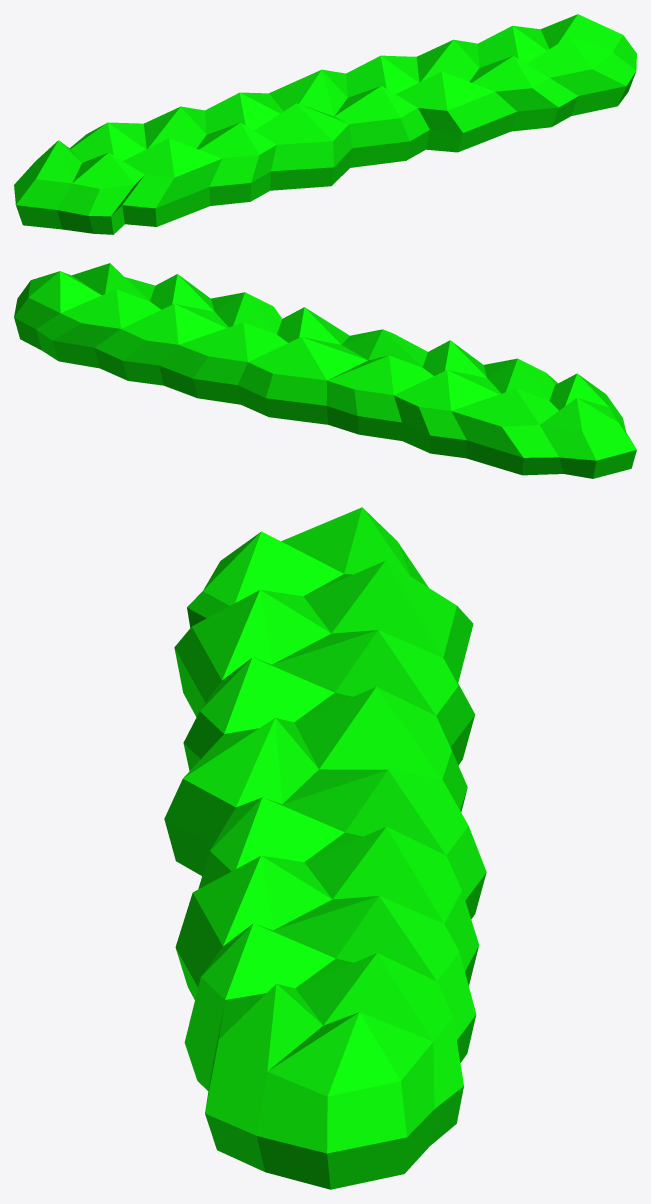
The model's file is SM_Bread_Braided.fbx.
3 views of the same model, one above another, from view 1: azimuth 30°, elevation 25°; view 2: azimuth 150°, elevation 25°; view 3: azimuth 270°, elevation 25° (orthographic). The views are drawn at different scales.
Visible parts, largest first — view 1: bread-braided; view 2: bread-braided; view 3: bread-braided.
Part boxes in pixels (bbox=[...]): bread-braided: bbox=[14, 14, 636, 234]; bread-braided: bbox=[14, 263, 636, 478]; bread-braided: bbox=[164, 507, 486, 1189].
Bounding box in the file's own units: 0.5809 × 0.0666 × 0.1309.
